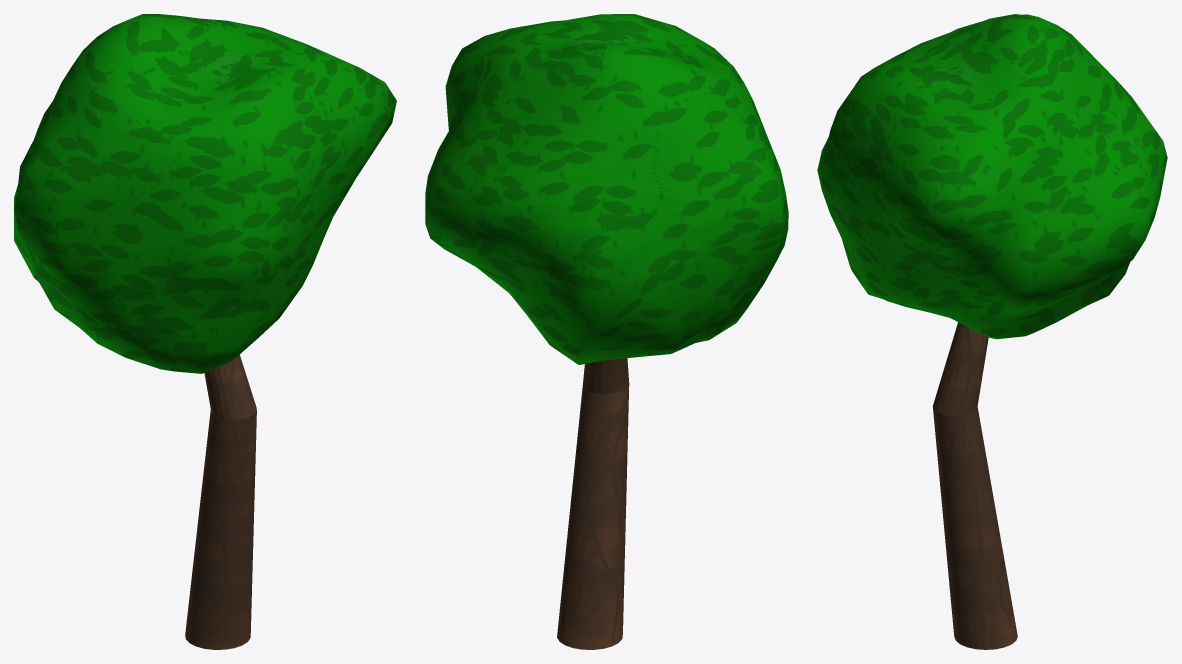
The model's file is SM_LowPolyTree.fbx.
3 views of the same model, side by side, from view 1: azimuth 30°, elevation 25°; view 2: azimuth 150°, elevation 25°; view 3: azimuth 270°, elevation 25° (orthographic). The views are drawn at different scales.
Parts seen in each view (by area): view 1: pCylinder3; view 2: pCylinder3; view 3: pCylinder3.
Boxes of the visible parts, x1,y1,x2,y2 form: pCylinder3: [14, 14, 396, 649]; pCylinder3: [425, 14, 788, 649]; pCylinder3: [817, 14, 1167, 649].
Size of the model in its own units: 896 by 1476 by 791.
1 material, 1 textured.
